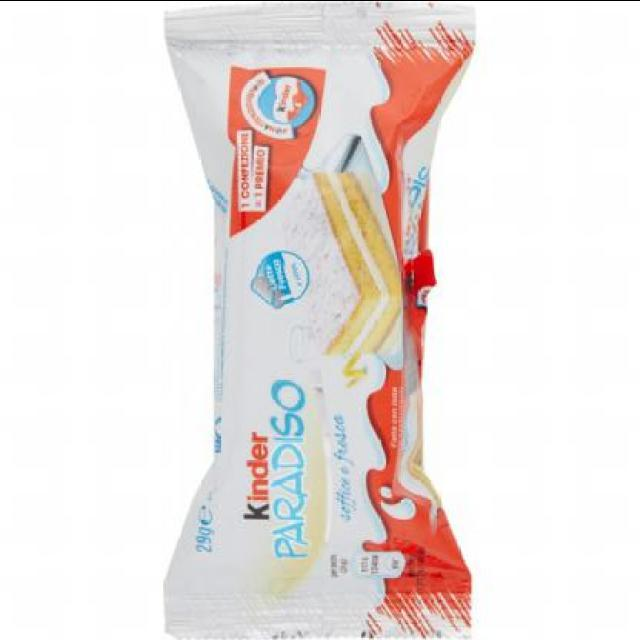Merendine: (156, 9, 474, 636)
Merendine packaged: (296, 156, 394, 368)
